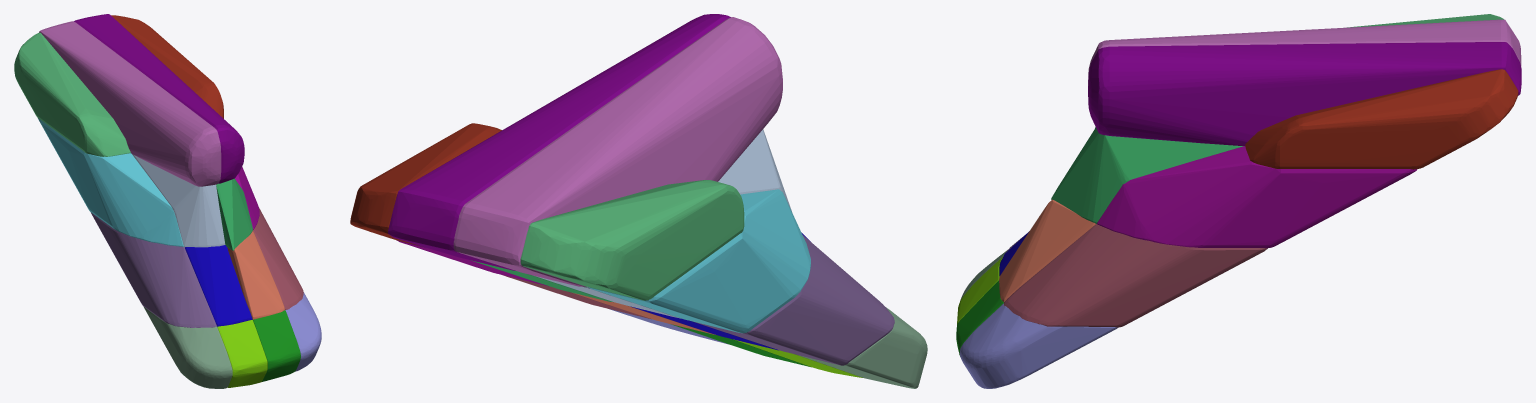
Rendered from toe-roll_split.obj.
3 renders of one model, left to right at view 1: azimuth 30°, elevation 25°; view 2: azimuth 150°, elevation 25°; view 3: azimuth 270°, elevation 25°, orthographic. The views are drawn at different scales.
Parts seen in each view (by area): view 1: geometry_7, geometry_2, geometry_3, geometry_1, geometry_11, geometry_6, geometry_0, geometry_5, geometry_9, geometry_15, geometry_4, geometry_8 (+4 smaller); view 2: geometry_7, geometry_3, geometry_11, geometry_2, geometry_1, geometry_15, geometry_0, geometry_6, geometry_4, geometry_8, geometry_5, geometry_14 (+3 smaller); view 3: geometry_11, geometry_14, geometry_15, geometry_13, geometry_10, geometry_12, geometry_7, geometry_9, geometry_8, geometry_4, geometry_3.
Part boxes in pixels (<box>): geometry_7: <box>39,21,221,186</box>; geometry_2: <box>38,118,183,246</box>; geometry_3: <box>14,32,130,156</box>; geometry_1: <box>91,212,216,327</box>; geometry_11: <box>74,14,244,183</box>; geometry_6: <box>132,154,225,247</box>; geometry_0: <box>144,307,232,388</box>; geometry_5: <box>185,245,252,326</box>; geometry_9: <box>227,231,284,319</box>; geometry_15: <box>111,15,223,118</box>; geometry_4: <box>217,320,267,387</box>; geometry_8: <box>253,310,300,381</box>; geometry_7: <box>453,17,782,286</box>; geometry_3: <box>520,180,744,300</box>; geometry_11: <box>388,14,730,270</box>; geometry_2: <box>588,189,810,333</box>; geometry_1: <box>693,235,894,365</box>; geometry_15: <box>350,123,501,245</box>; geometry_0: <box>798,307,927,388</box>; geometry_6: <box>535,129,792,318</box>; geometry_4: <box>733,339,862,377</box>; geometry_8: <box>671,324,811,367</box>; geometry_5: <box>631,232,810,350</box>; geometry_14: <box>396,240,548,286</box>; geometry_11: <box>1088,42,1521,145</box>; geometry_14: <box>1097,146,1417,248</box>; geometry_15: <box>1245,69,1518,169</box>; geometry_13: <box>1004,224,1267,327</box>; geometry_10: <box>1051,127,1243,223</box>; geometry_12: <box>959,303,1117,388</box>; geometry_7: <box>1088,19,1521,85</box>; geometry_9: <box>999,199,1095,302</box>; geometry_8: <box>956,280,1003,356</box>; geometry_4: <box>957,257,1002,324</box>; geometry_3: <box>1347,14,1503,27</box>.
Bounding box in the file's own units: 0.0861 × 0.1327 × 0.2139.
